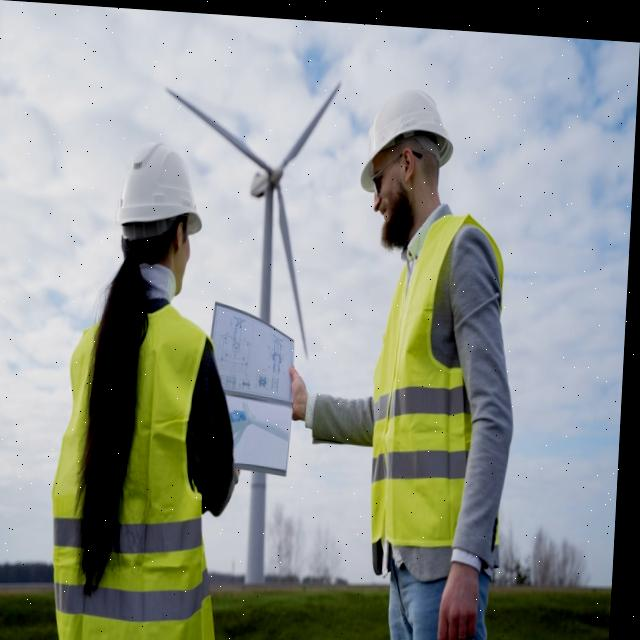solid-blade: (168, 87, 274, 169), (278, 180, 312, 352), (283, 78, 341, 164)
